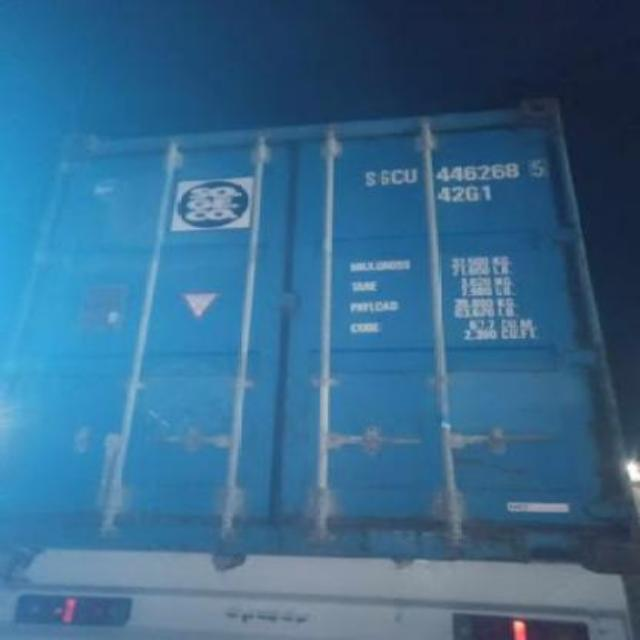2: (476, 156, 492, 182)
4: (448, 156, 464, 184), (432, 158, 448, 185)
5: (528, 154, 548, 178)
6: (492, 154, 506, 182), (462, 155, 476, 181)
8: (506, 154, 522, 182)
C: (388, 160, 404, 190)
G: (376, 162, 389, 188)
S: (362, 162, 376, 188)
U: (404, 159, 418, 191)
